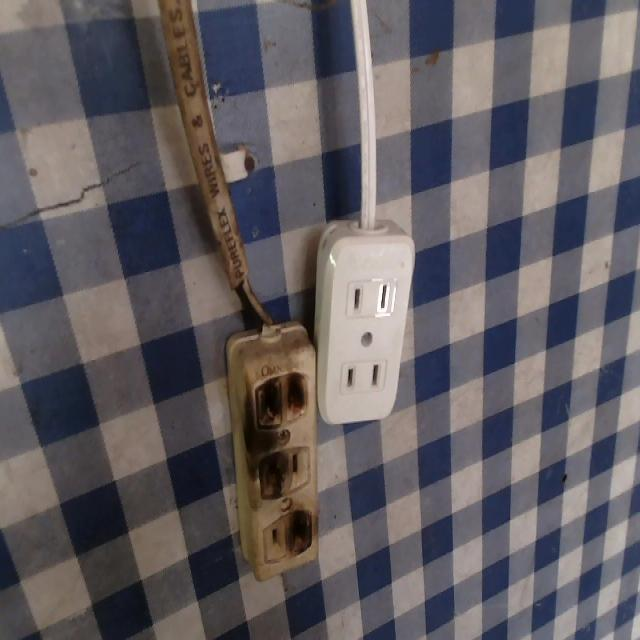-: (247, 367, 319, 433), (248, 447, 292, 504), (284, 503, 320, 564)
